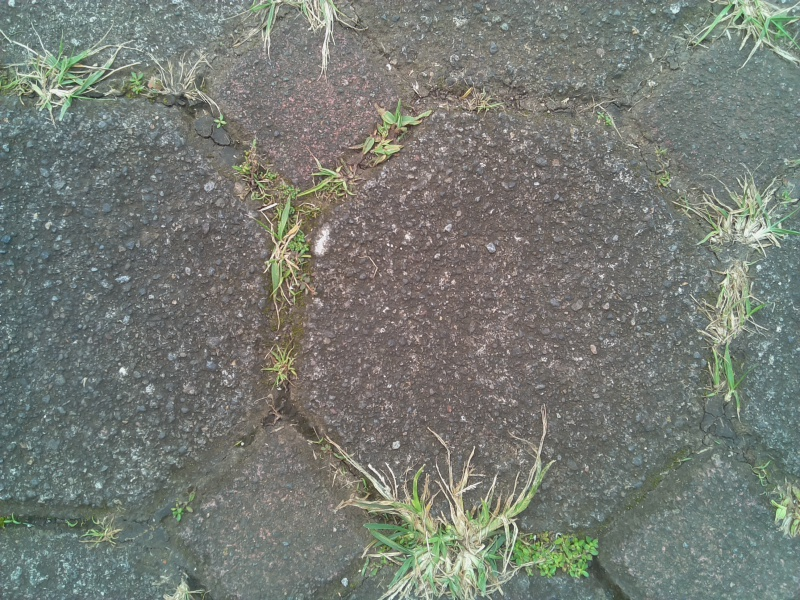Weed: (435, 436, 551, 600), (332, 435, 444, 600), (698, 252, 770, 410), (695, 178, 793, 255), (21, 40, 105, 111), (503, 524, 603, 582), (229, 146, 300, 216), (260, 217, 312, 297), (354, 103, 417, 166), (147, 52, 208, 104), (760, 470, 800, 544), (256, 335, 303, 397), (304, 159, 356, 203), (77, 517, 130, 556), (583, 91, 622, 134), (458, 82, 503, 119), (653, 144, 681, 188), (168, 499, 195, 525), (210, 109, 233, 135)
